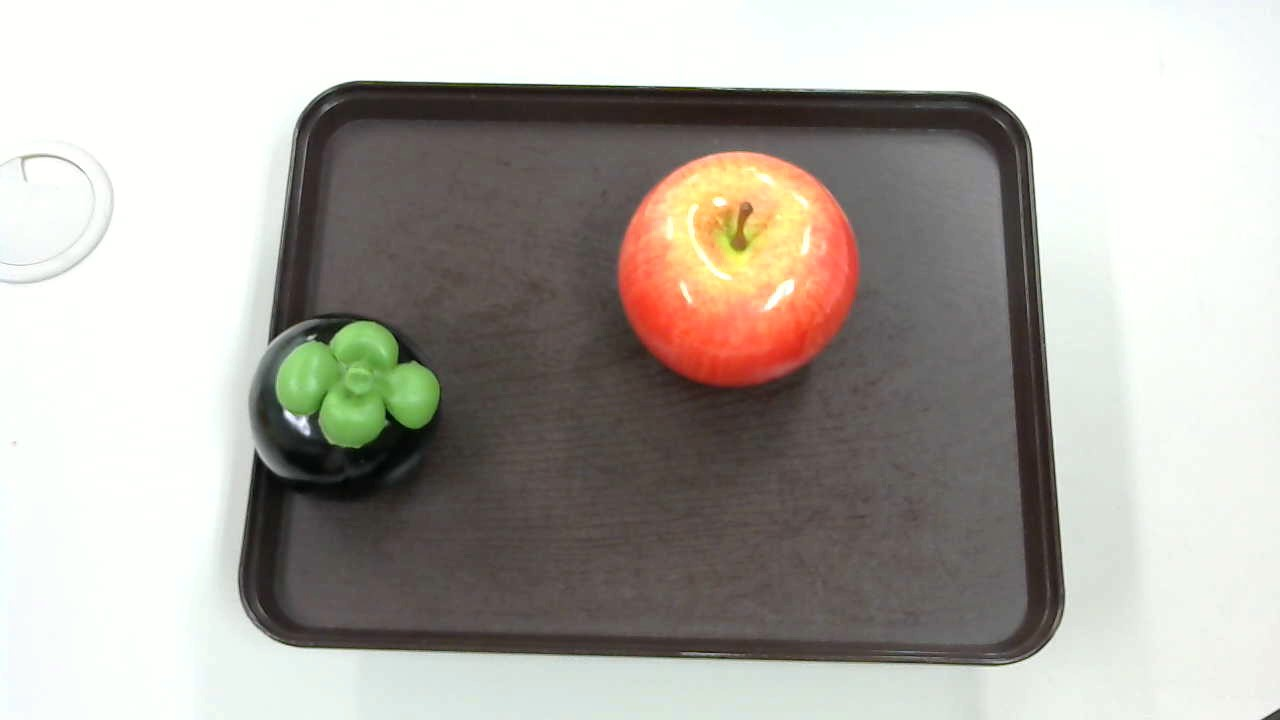mangosteen: (244, 312, 446, 507)
red apple: (615, 152, 857, 390)
